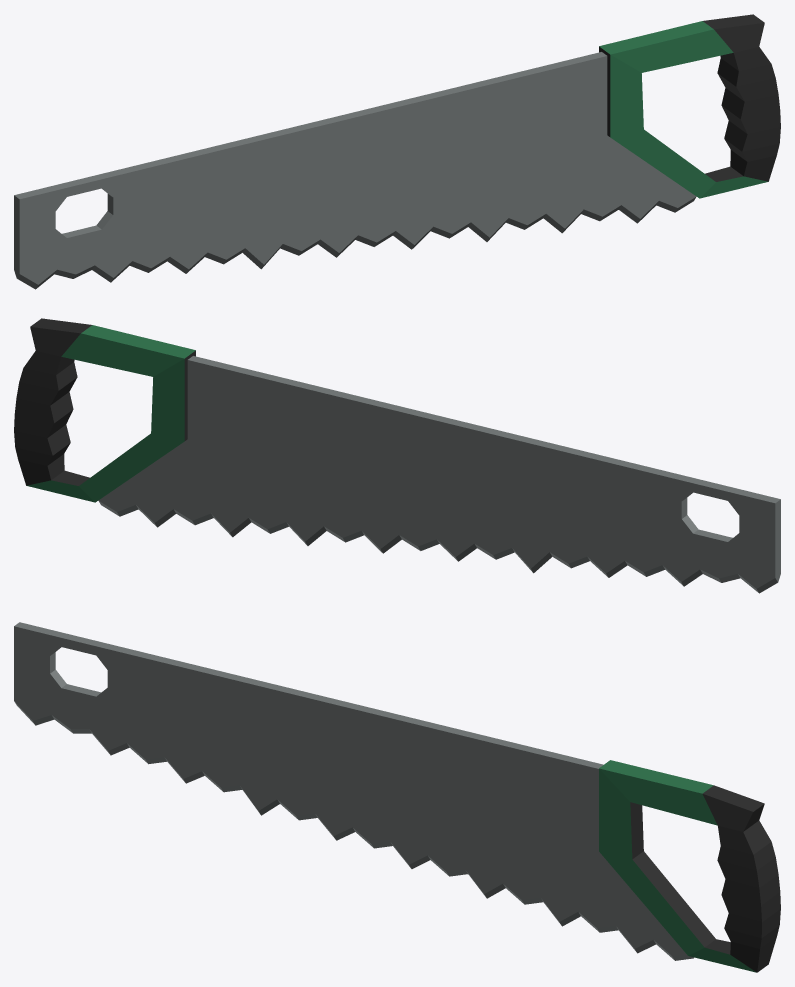
Rendered from SM_Hand_Saw.fbx.
3 renders of one model, top to bottom at view 1: azimuth 30°, elevation 25°; view 2: azimuth 150°, elevation 25°; view 3: azimuth 330°, elevation 25°, orthographic.
Visible parts, largest first — view 1: SM_Hand_Saw; view 2: SM_Hand_Saw; view 3: SM_Hand_Saw.
Part boxes in pixels (x1,y1,x2,y2): SM_Hand_Saw: (14, 14, 780, 289); SM_Hand_Saw: (14, 318, 780, 593); SM_Hand_Saw: (14, 622, 780, 972).
Size of the model in its own units: 73.67 by 16.91 by 3.25.
